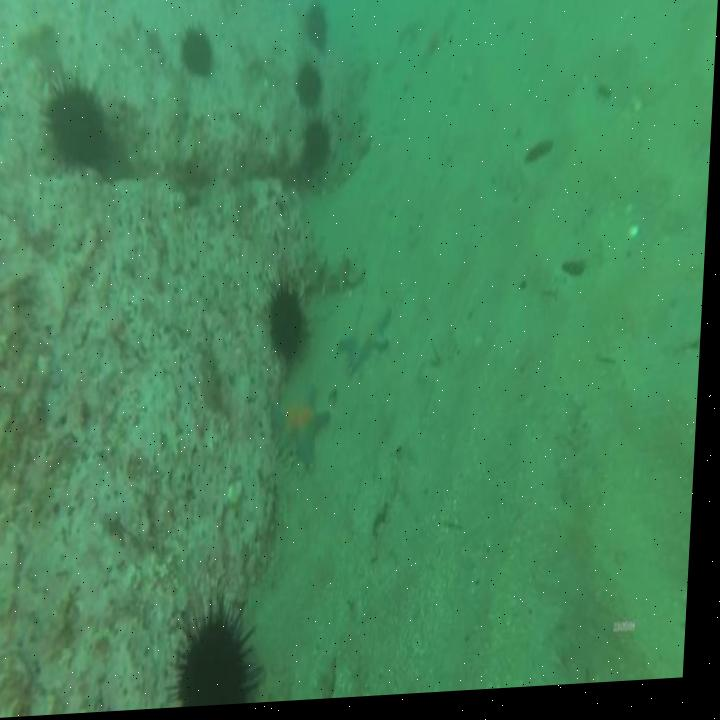echinus: (181, 603, 270, 710), (43, 74, 118, 181), (268, 280, 313, 368), (179, 24, 219, 86), (297, 116, 337, 176), (298, 0, 331, 55), (293, 65, 329, 114)
starfish: (277, 385, 338, 478), (340, 303, 397, 385)
